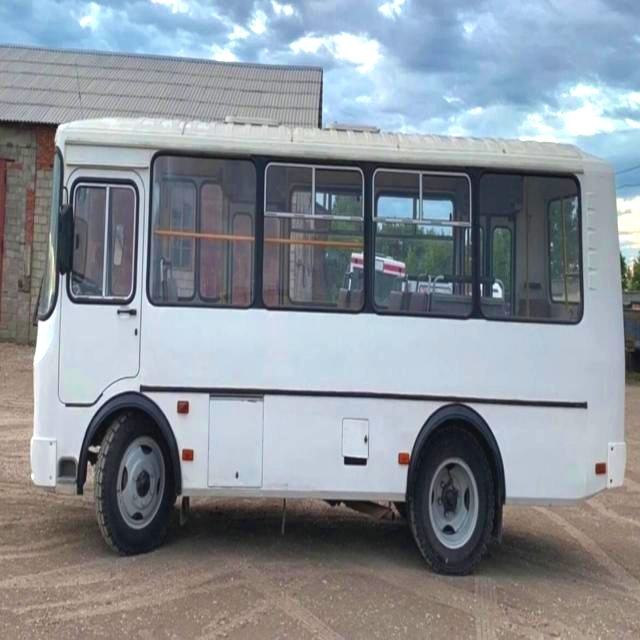bus: (15, 91, 640, 589)
